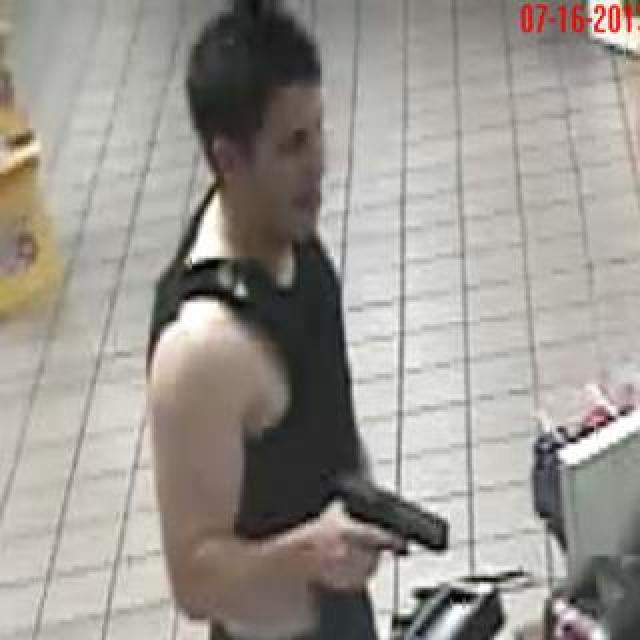Guns: (328, 457, 463, 581)
